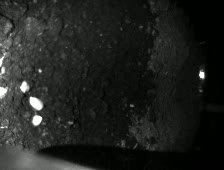corn: (29, 96, 44, 112), (31, 115, 43, 128)
